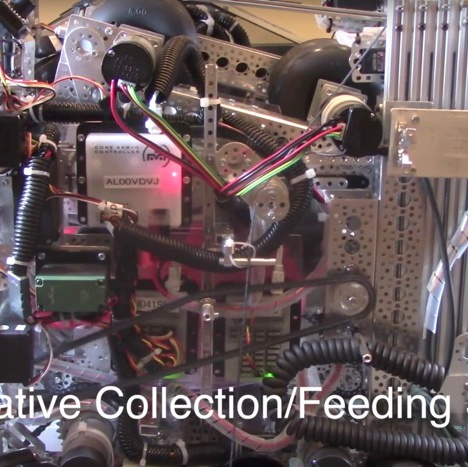robot: (1, 2, 468, 467)
